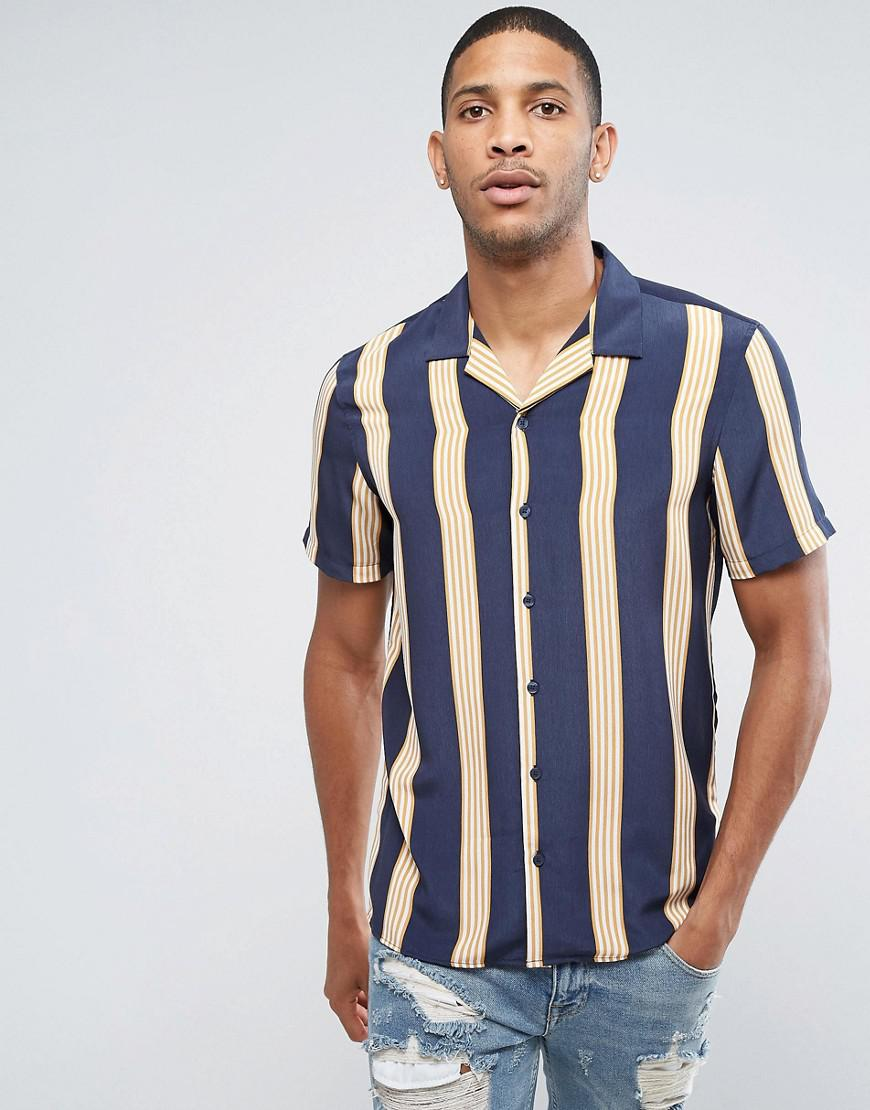teeshirt: (291, 247, 842, 973)
